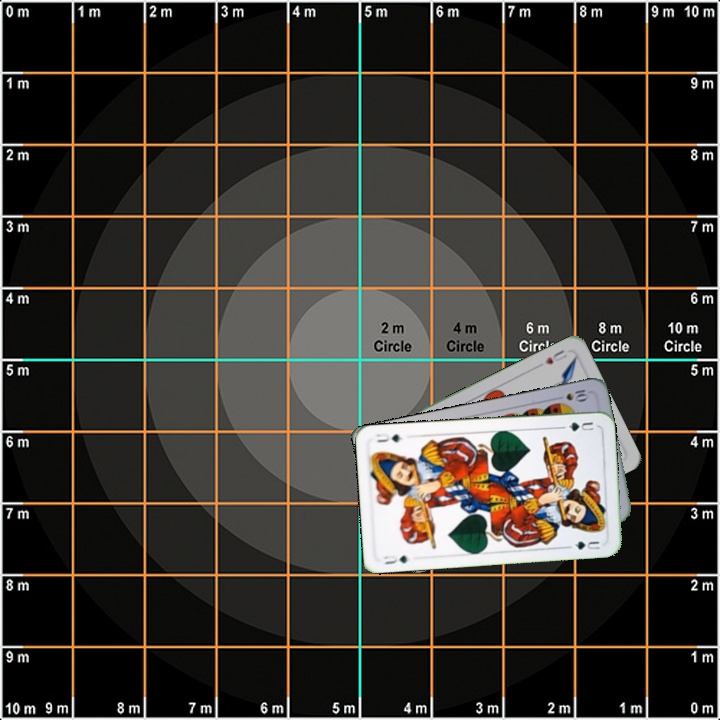GU: (558, 418, 596, 434), (380, 551, 410, 567)
HU: (534, 346, 569, 370)
S10: (551, 385, 591, 404)
